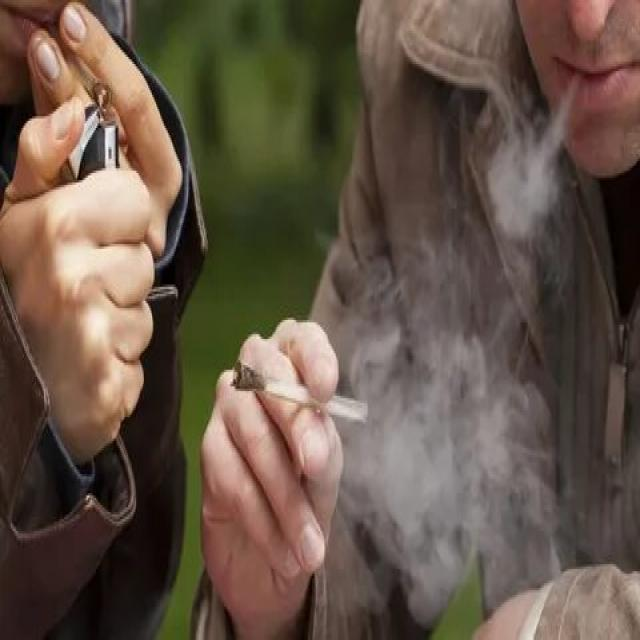cigarette: (229, 354, 376, 432), (49, 17, 119, 116)
